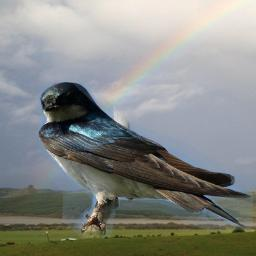Swallow: (38, 82, 253, 238)
